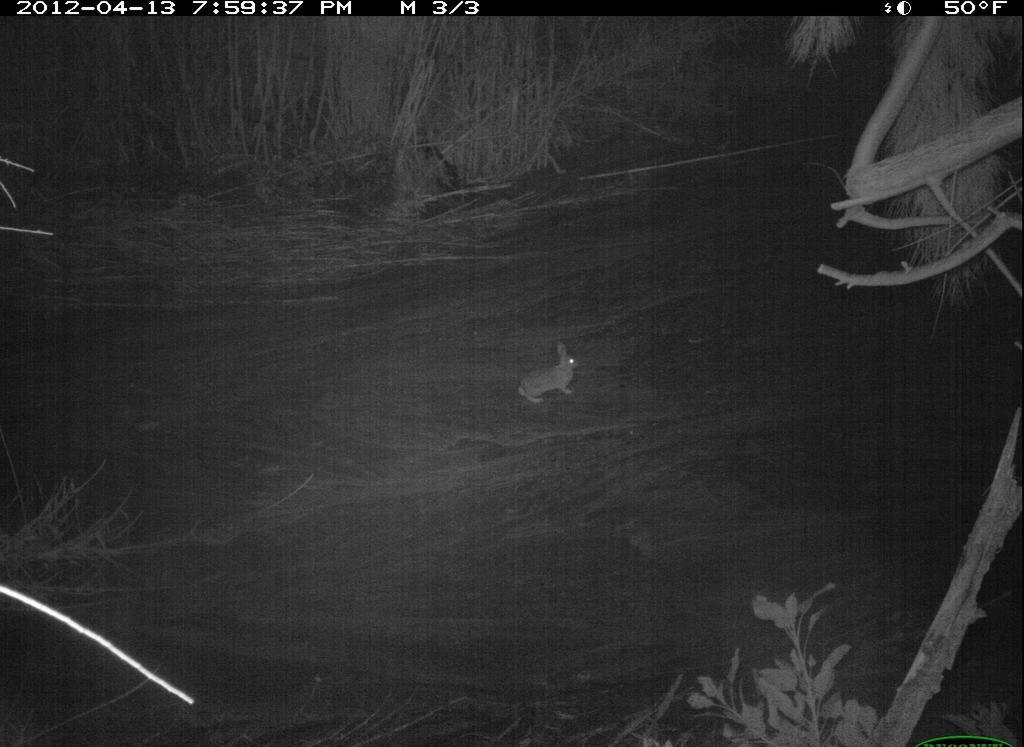rabbit: (509, 336, 600, 419)
